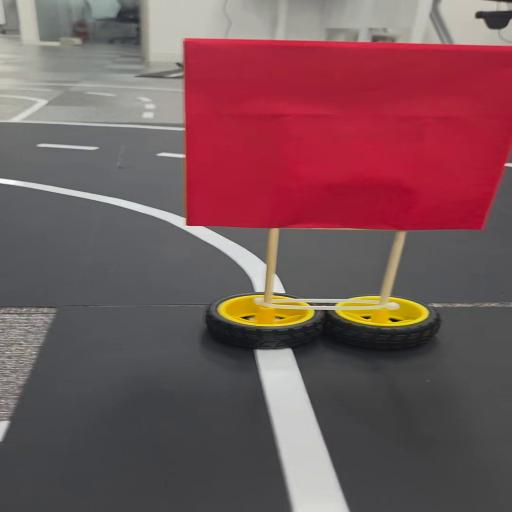Sign_A: (178, 33, 512, 356)
